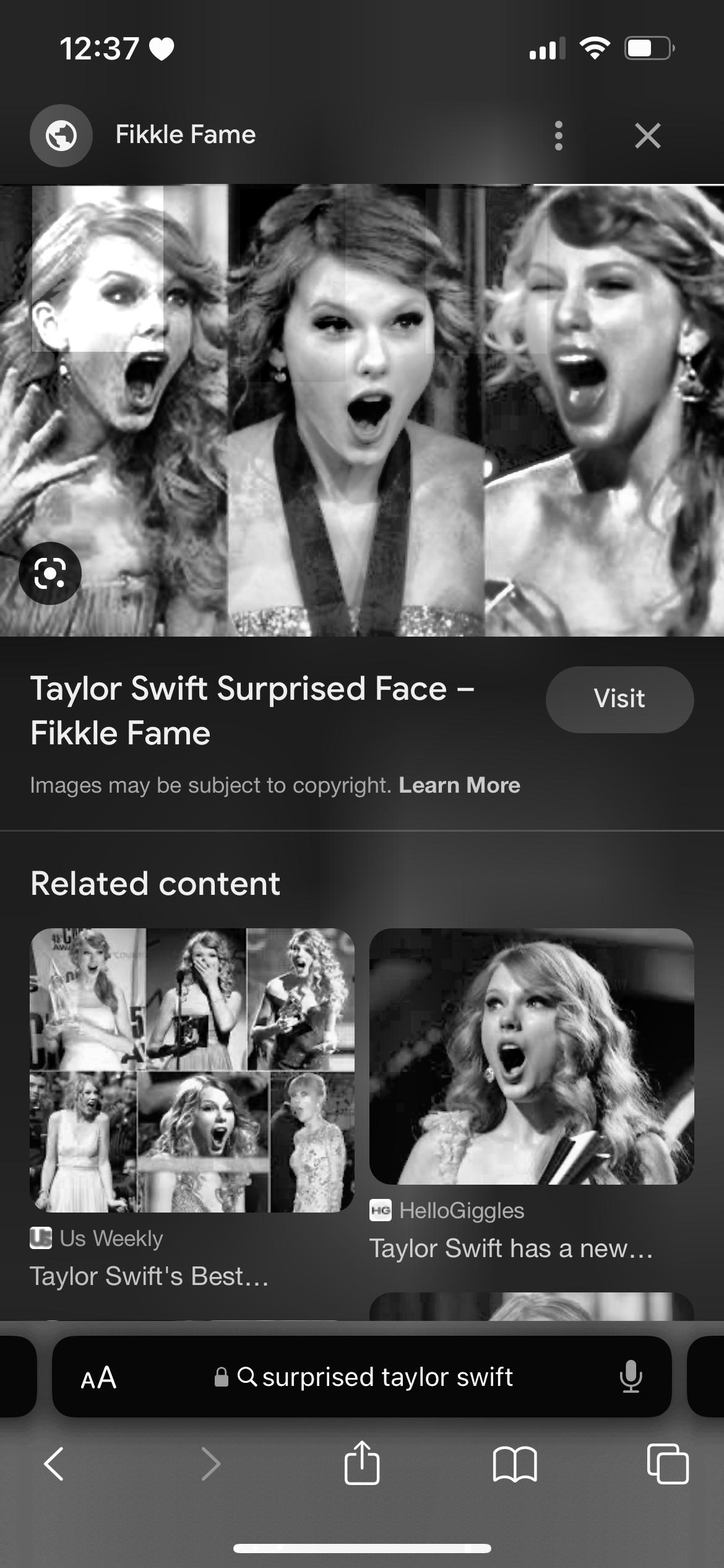surprised: (297, 234, 427, 472)
